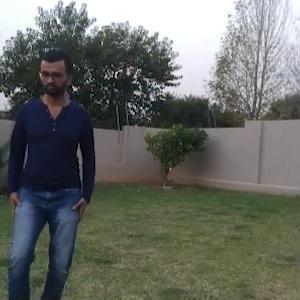follow: (0, 10, 105, 299)
